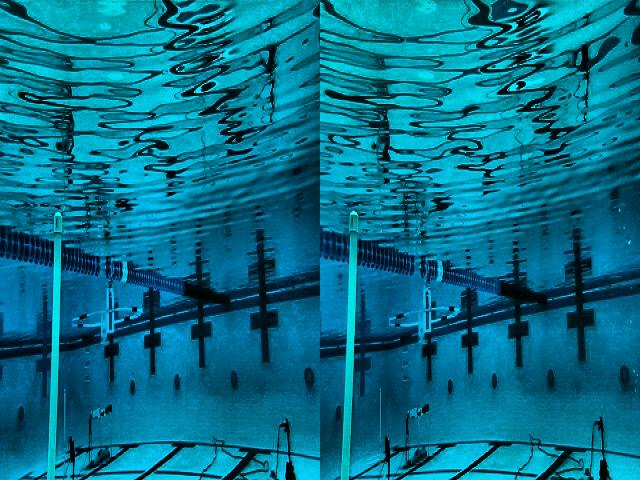octagon_table: (402, 403, 430, 469), (86, 402, 113, 470)
octagon_top: (388, 305, 461, 345), (72, 306, 144, 346)
